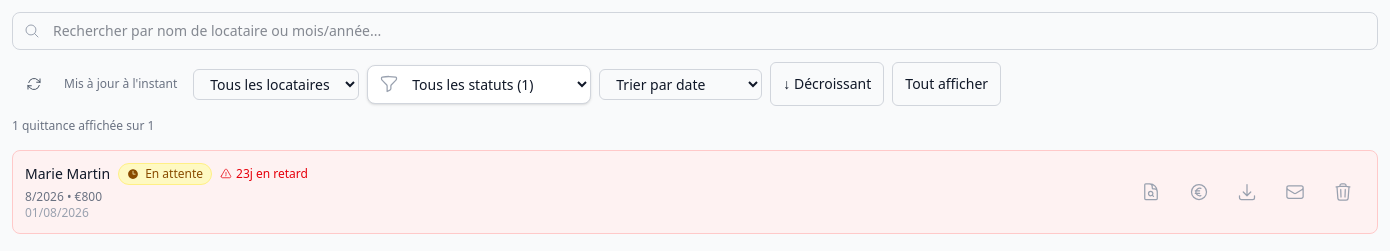
Test: RecentReceipts feed states (#56) › renders the filtered-out empty variant when nothing matches
Step 1. Type "inconnu-au-bataillon" into the field with placeholder "Rechercher par nom de locataire ou mois/année..." → (695, 31), box [12,12,1378,50]
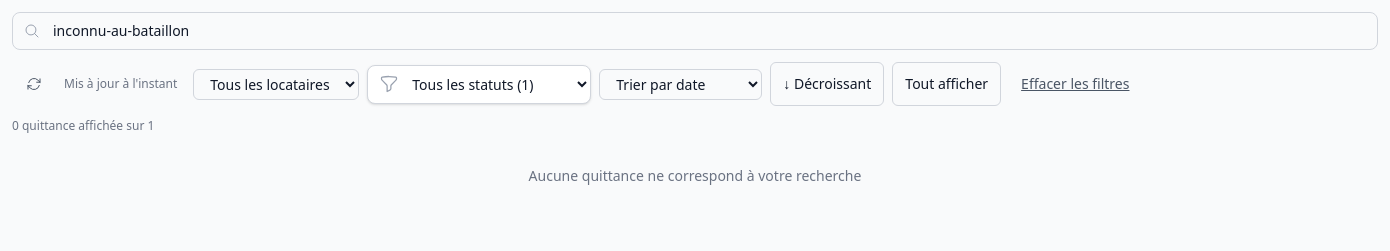
Expected: the text "Aucune quittance ne correspond à votre recherche" is shown, [529,166,861,185]
